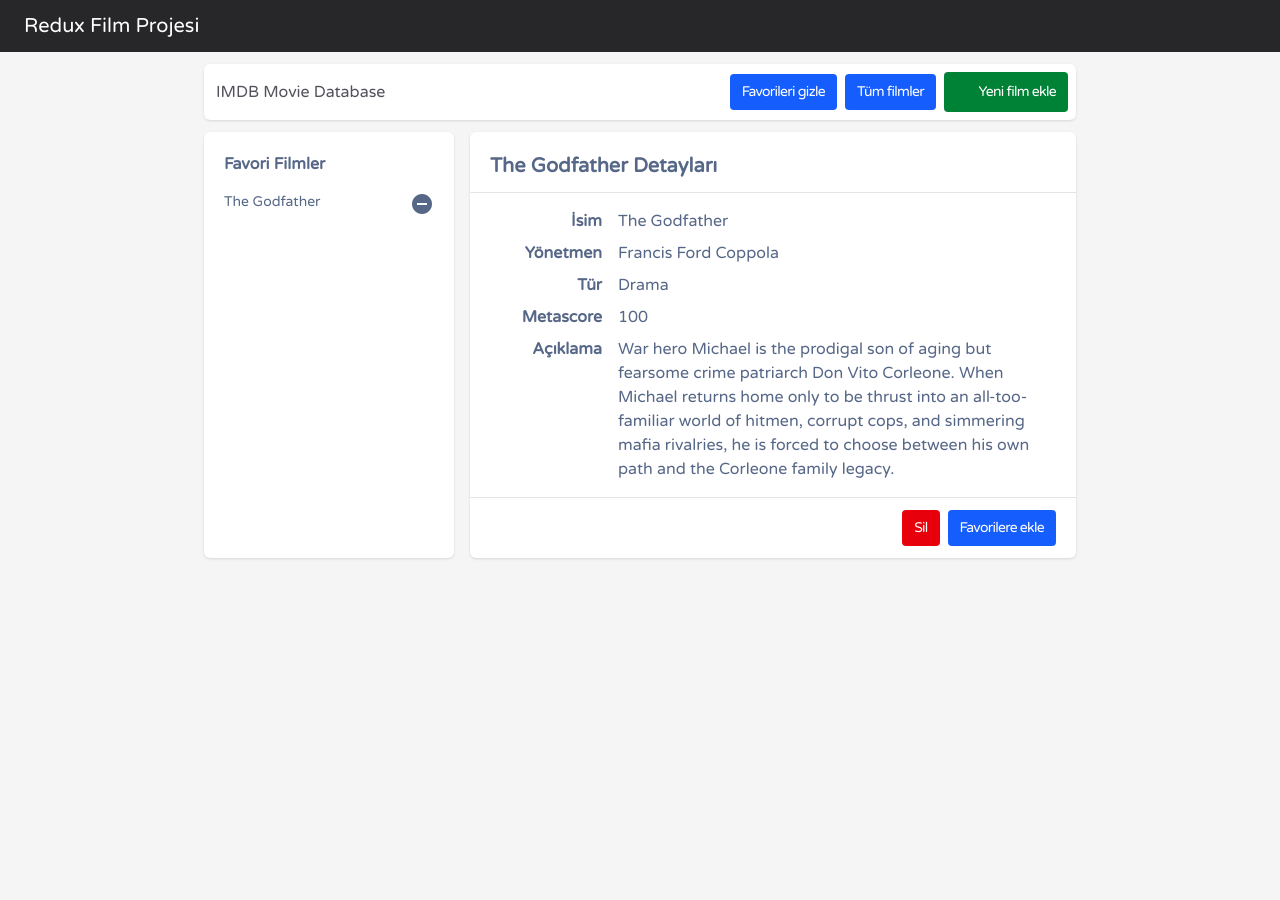
Scenario: Favorilerden çıkar butonu filmi favori listesinden çıkarıyor mu?
Click the link "Tüm filmler": (890, 92) top-left (845, 74), bottom-right (936, 110)
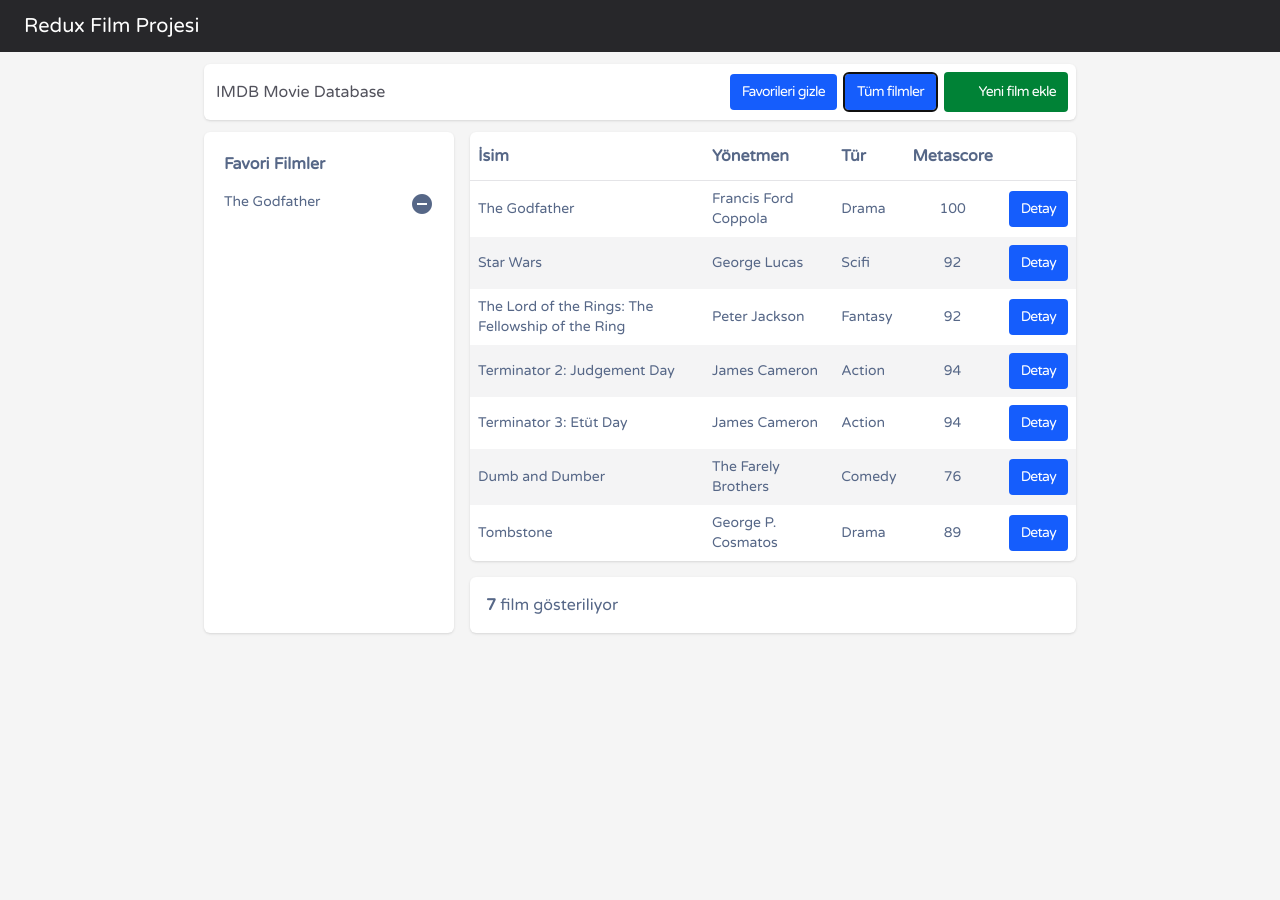
Click the link "Detay" in the row of "Francis Ford Coppola": (1038, 209) top-left (1009, 191), bottom-right (1068, 227)
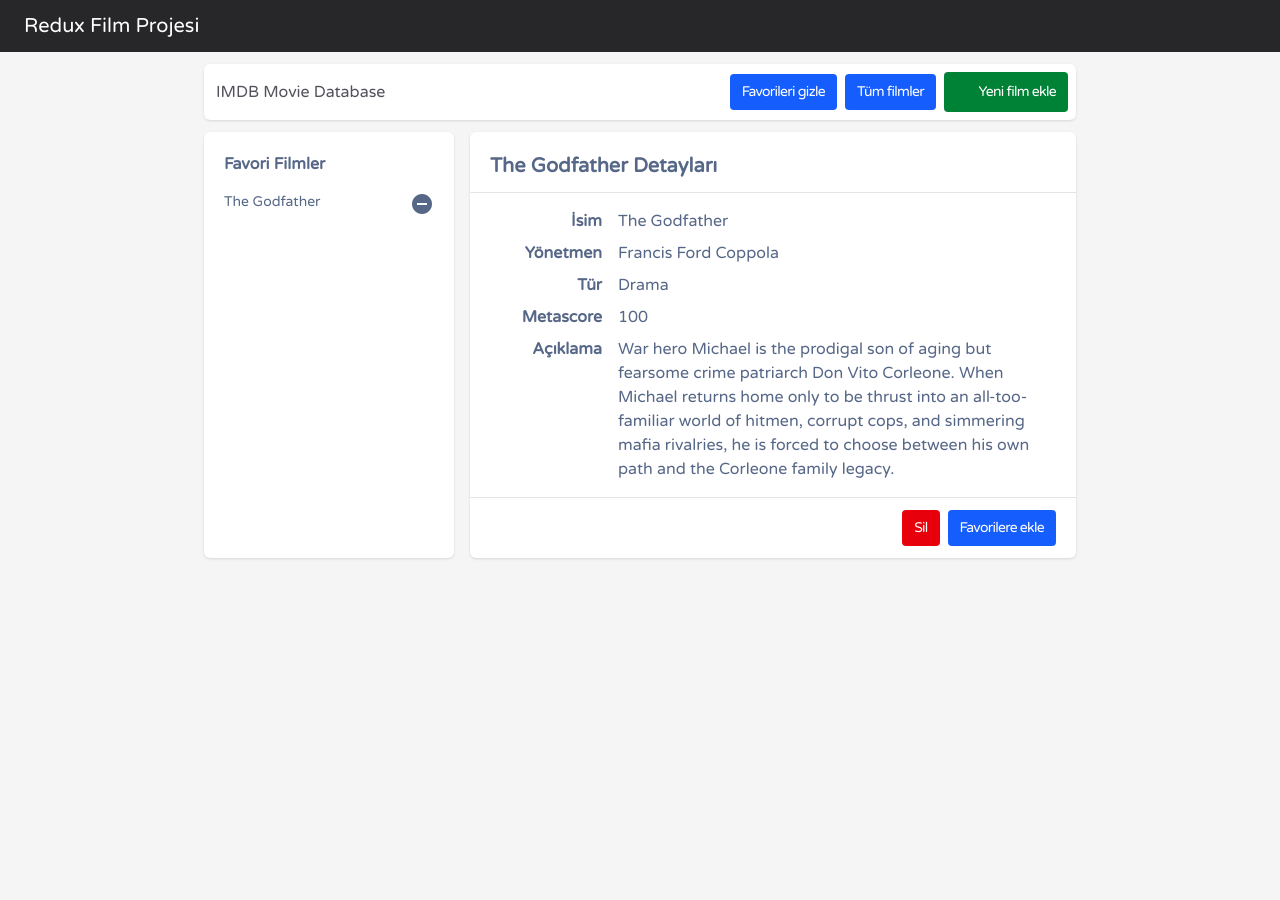
Result: the heading "The Godfather Detayları" is shown at top-left (490, 154), bottom-right (717, 178)
Click the button "Favorilere ekle": (1002, 528) top-left (948, 510), bottom-right (1056, 546)
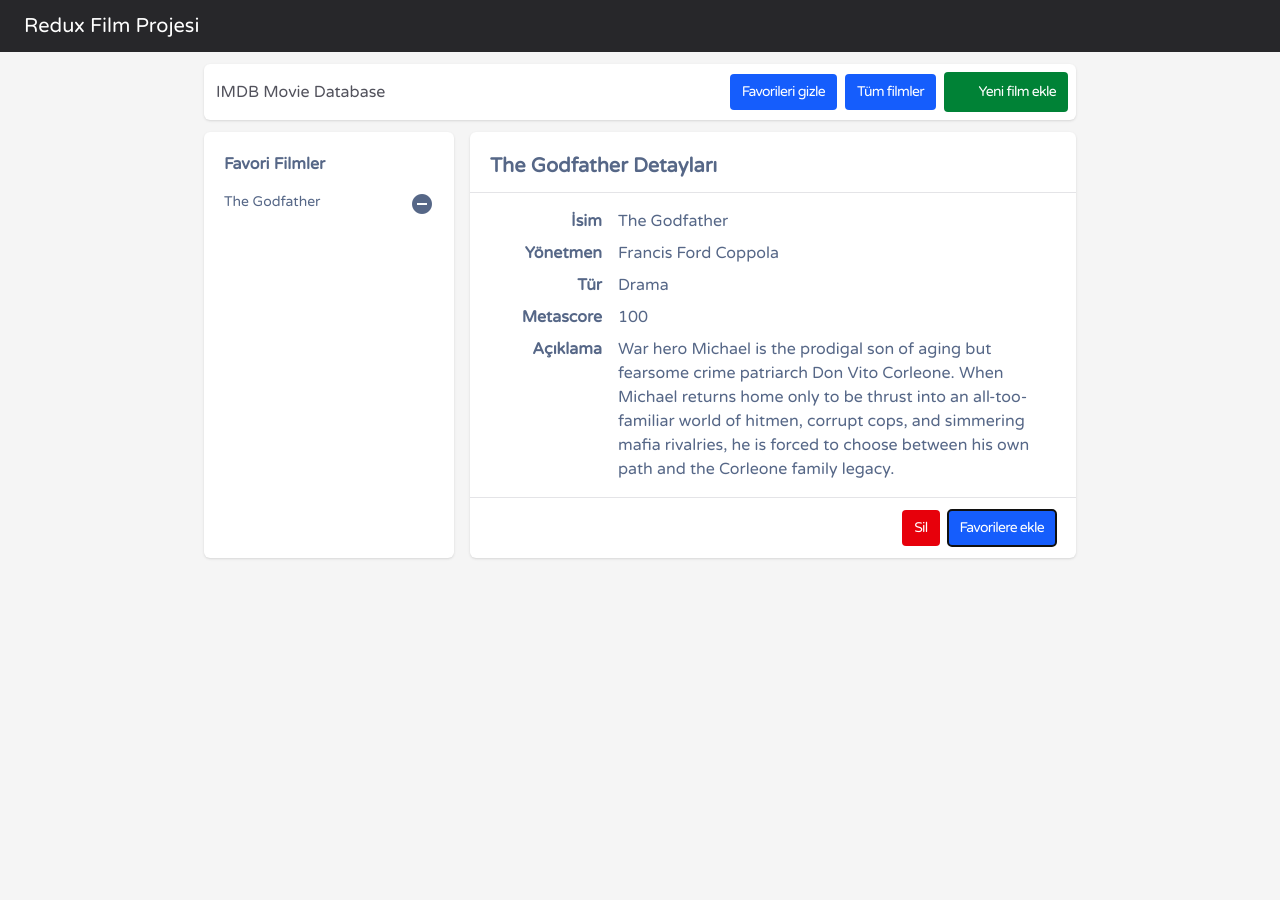
Expected: the number of links with test id "favorite-movie" is 1, top-left (224, 188), bottom-right (434, 220)
Click the icon "remove_circle" below "Favori Filmler": (422, 204) top-left (410, 192), bottom-right (434, 216)
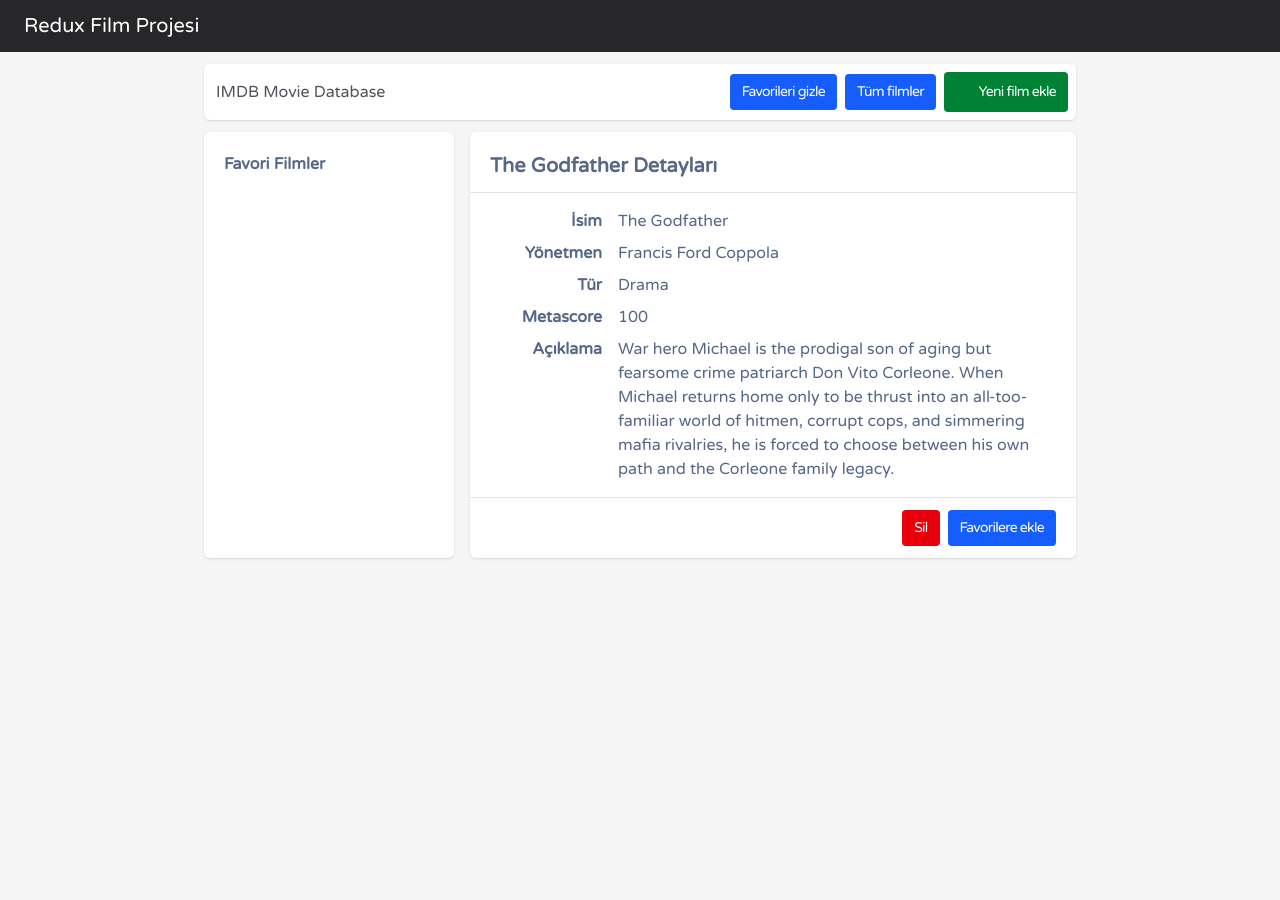
Result: no links with test id "favorite-movie" are shown
